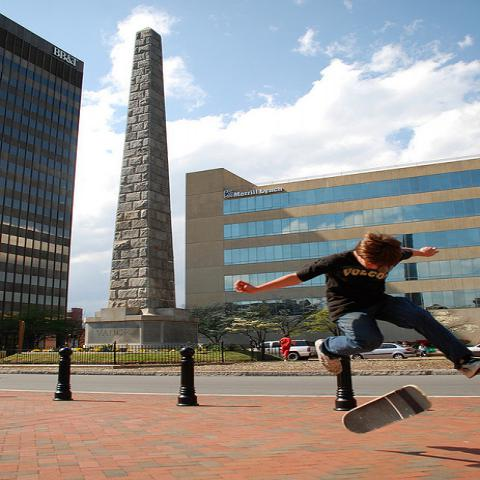car: (247, 340, 317, 362), (352, 344, 415, 359), (466, 343, 479, 353)
truck: (246, 339, 317, 362)
